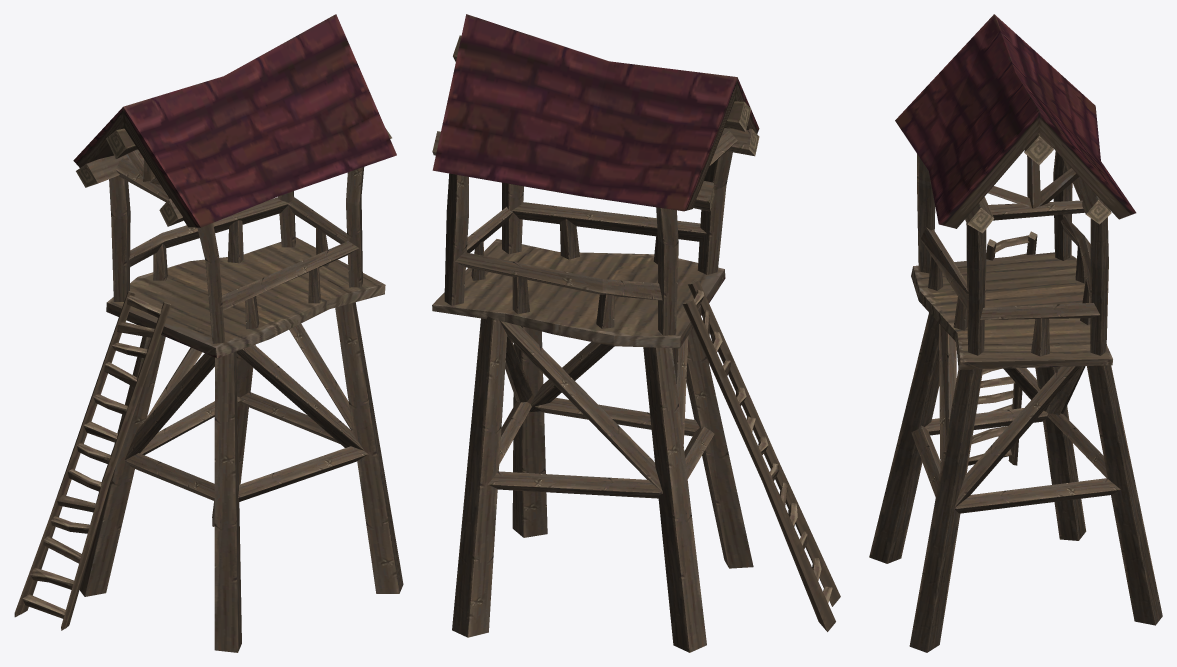
The model's file is building_guardtower.fbx.
3 renders of one model, left to right at view 1: azimuth 30°, elevation 25°; view 2: azimuth 150°, elevation 25°; view 3: azimuth 270°, elevation 25°, orthographic. The views are drawn at different scales.
Parts seen in each view (by area): view 1: obj0.046; view 2: obj0.046; view 3: obj0.046.
Part boxes in pixels (x1,y1,x2,y2): obj0.046: (14, 14, 403, 652); obj0.046: (432, 14, 840, 652); obj0.046: (869, 14, 1162, 652).
Size of the model in its own units: 6.9 by 9.84 by 4.88.
